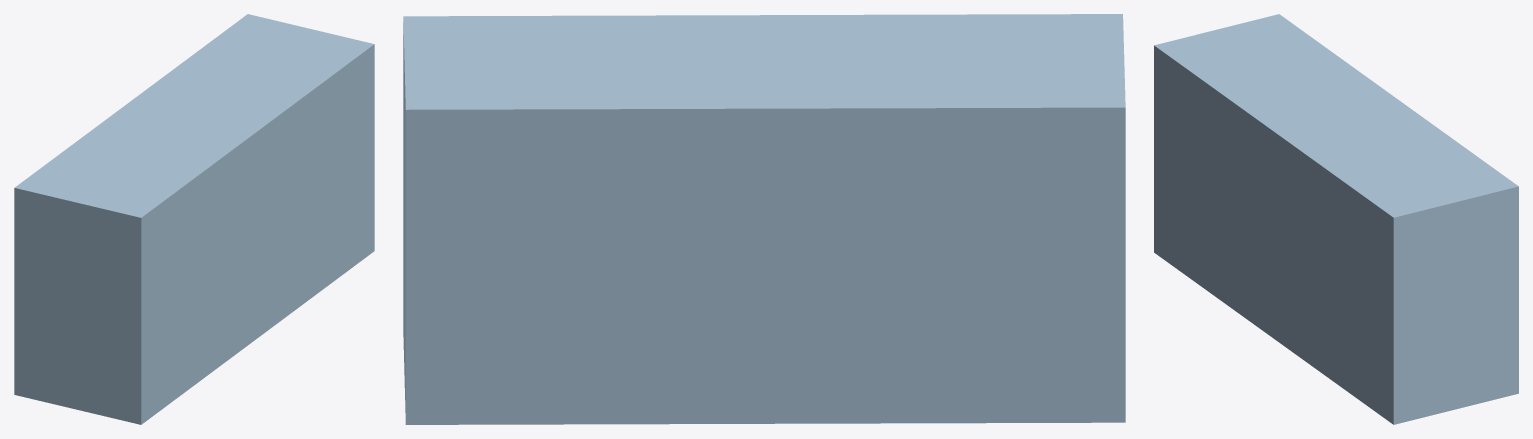
Rendered from osm_way_225265339.glb.
The picture shows the model from 3 angles, left to right: view 1: azimuth 30°, elevation 25°; view 2: azimuth 150°, elevation 25°; view 3: azimuth 270°, elevation 25°; orthographic projection. The views are drawn at different scales.
Visible parts, largest first — view 1: osm_way_225265339; view 2: osm_way_225265339; view 3: osm_way_225265339.
Boxes of the visible parts, x1,y1,x2,y2 form: osm_way_225265339: (14,14,374,424); osm_way_225265339: (403,14,1125,424); osm_way_225265339: (1154,14,1518,424).
Size of the model in its own units: 40.5 by 19.2 by 30.64.
